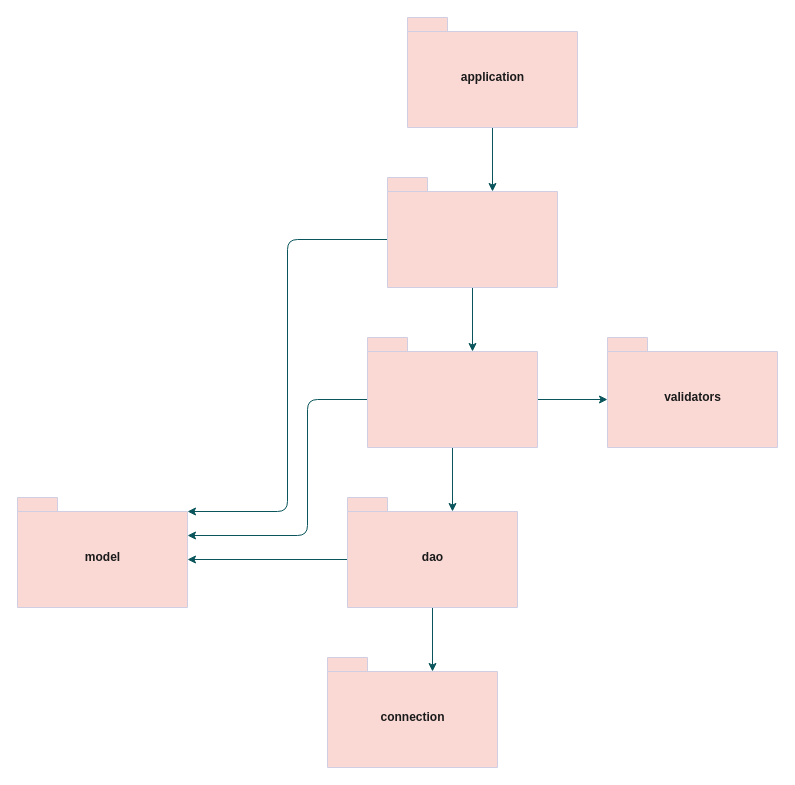
This 795x785 diagram has some shape labels left out. Each missing label, with the centre of its shape:
"bll" goes at (x=452, y=392).
"presentation" goes at (x=472, y=232).
